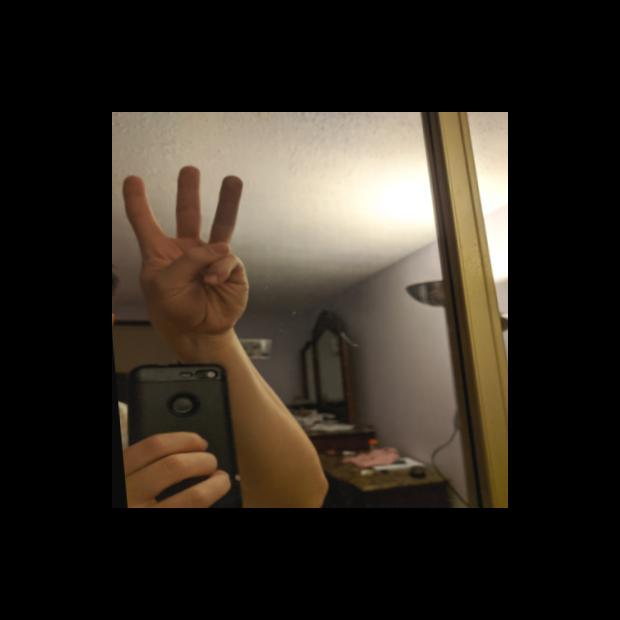V: (115, 159, 258, 345)
